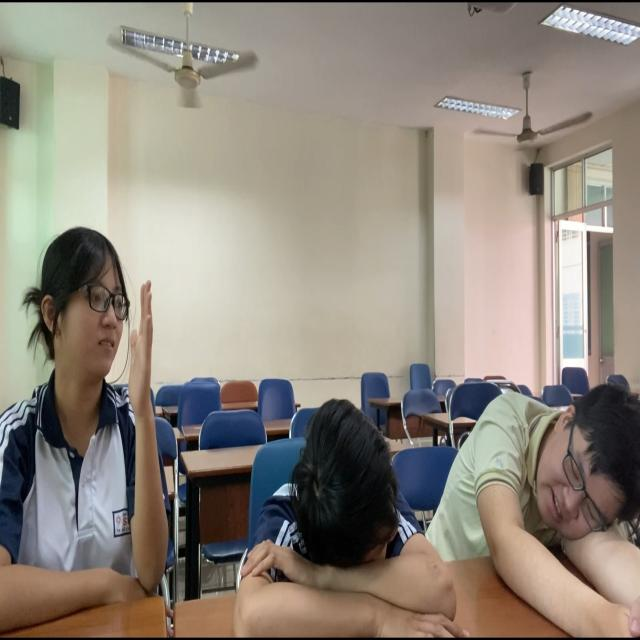raise_hand: (1, 183, 187, 640)
sleep: (234, 399, 458, 640)
